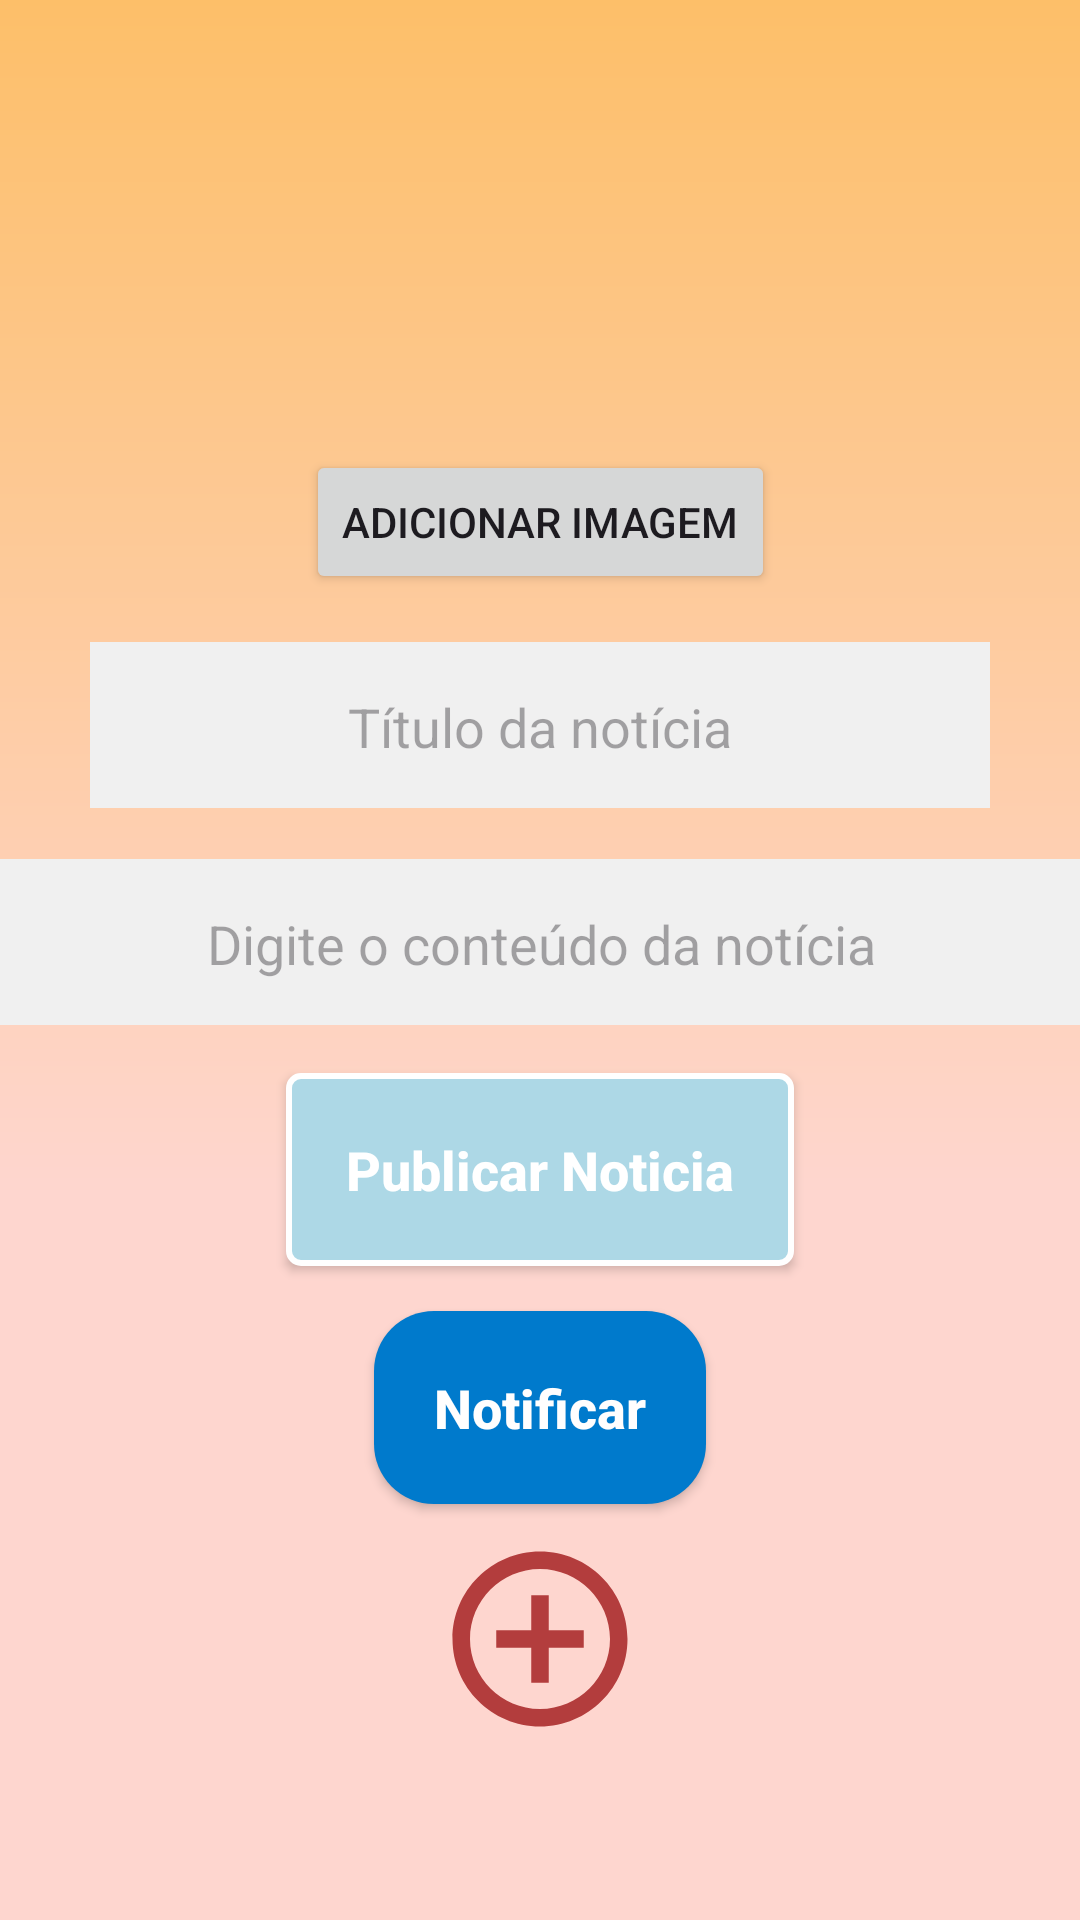

Icon click points for this 1080×1920 phone screenshot, format [x,y]:
add: [540,1639]
